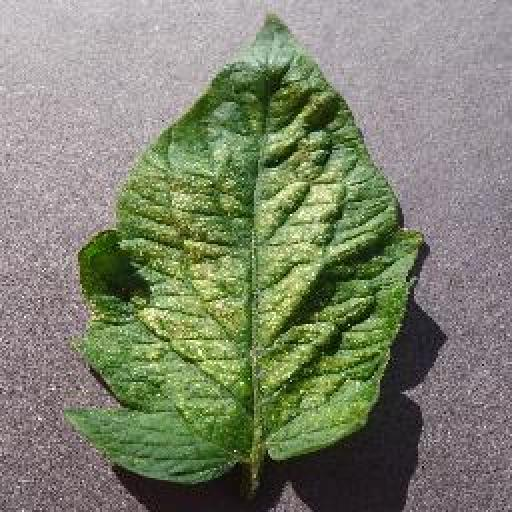disease_tomato: (64, 9, 427, 484)
